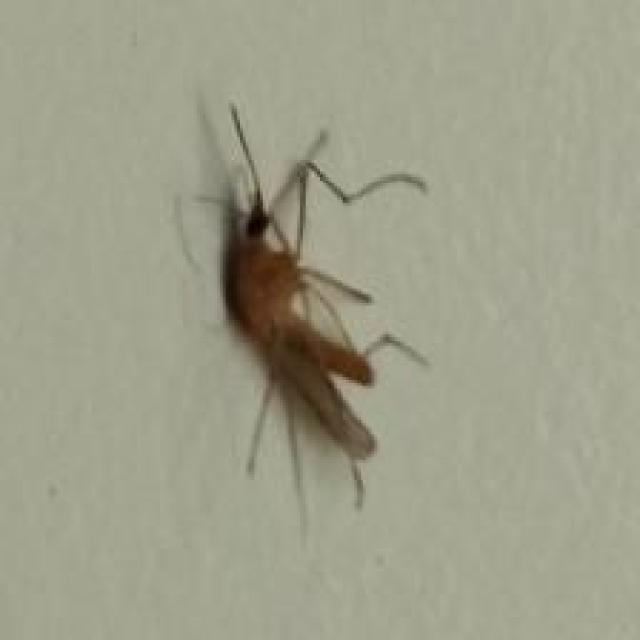Culex: (176, 99, 433, 542)
